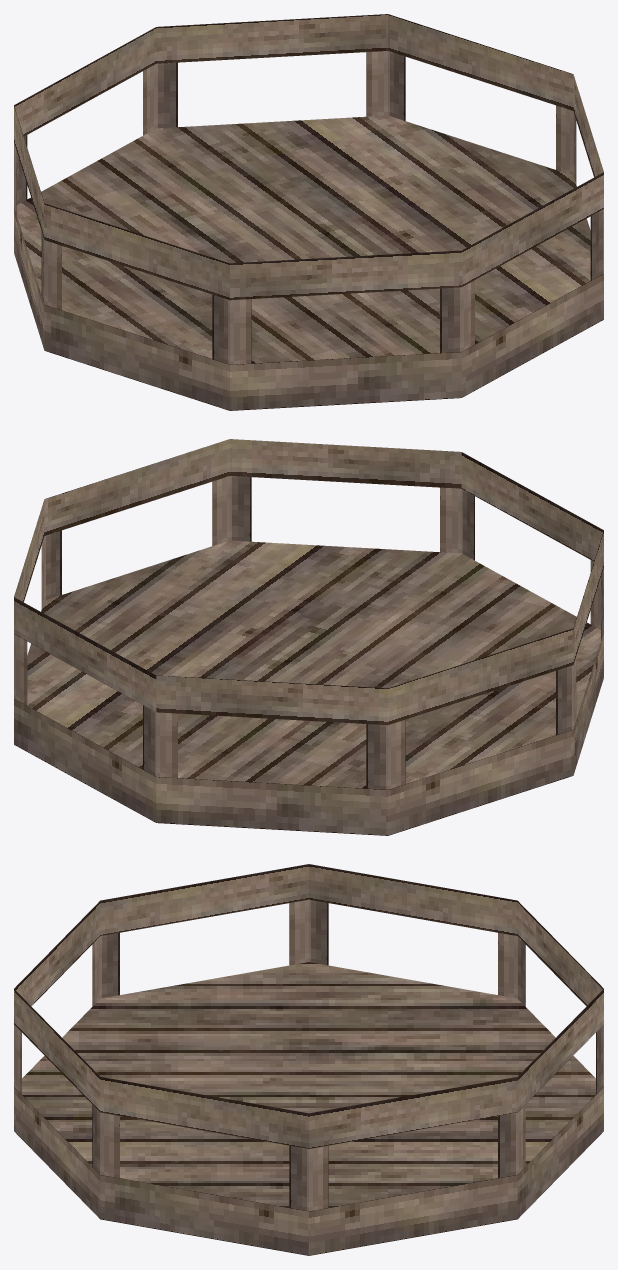
Rendered from overhang-round-railing.glb.
3 views of the same model, one above another, from view 1: azimuth 30°, elevation 25°; view 2: azimuth 150°, elevation 25°; view 3: azimuth 270°, elevation 25° (orthographic). The views are drawn at different scales.
Visible parts, largest first — view 1: overhang-round-railing, Group; view 2: overhang-round-railing, Group; view 3: overhang-round-railing, Group.
Boxes of the visible parts, <box> form: overhang-round-railing: <box>14,51,603,410</box>; Group: <box>14,14,603,300</box>; overhang-round-railing: <box>14,476,603,835</box>; Group: <box>14,439,603,725</box>; overhang-round-railing: <box>14,899,603,1255</box>; Group: <box>14,864,603,1148</box>.
Bounding box in the file's own units: 1.5 × 0.4 × 1.5.
1 material, 1 textured.
